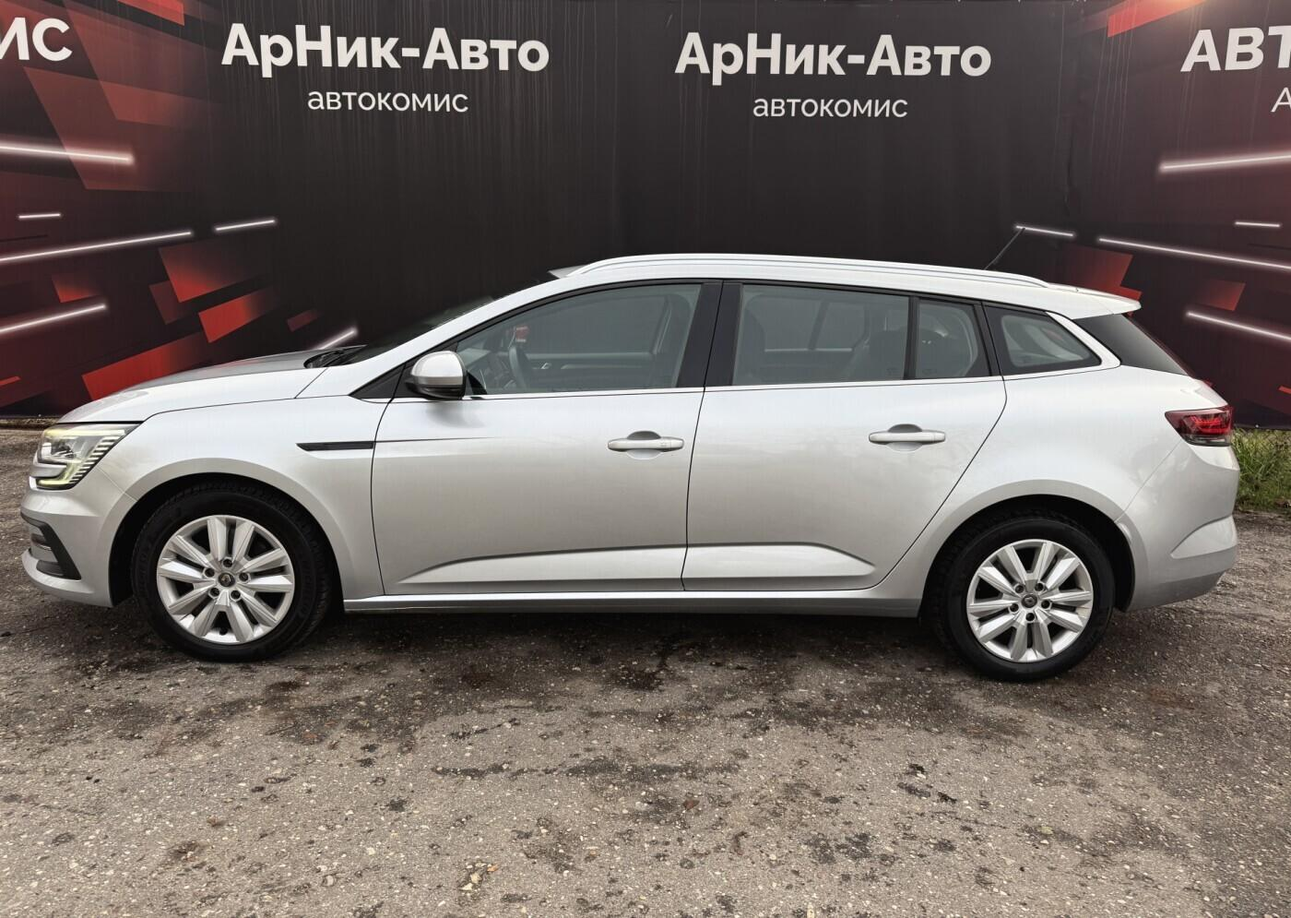Megane_2020: (18, 242, 1245, 690)
